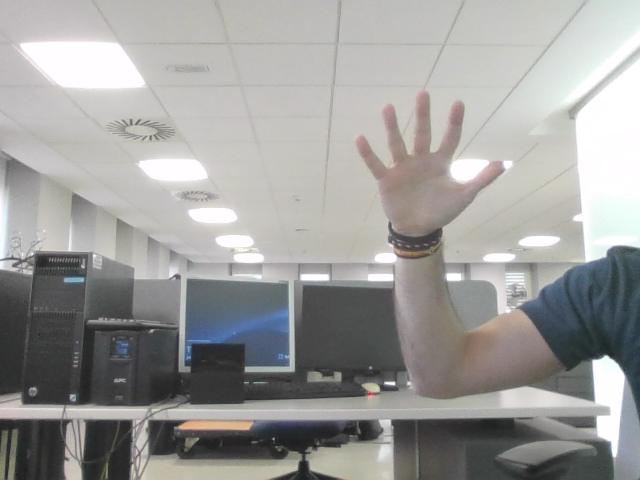Mano Abierta: (368, 102, 494, 209)
